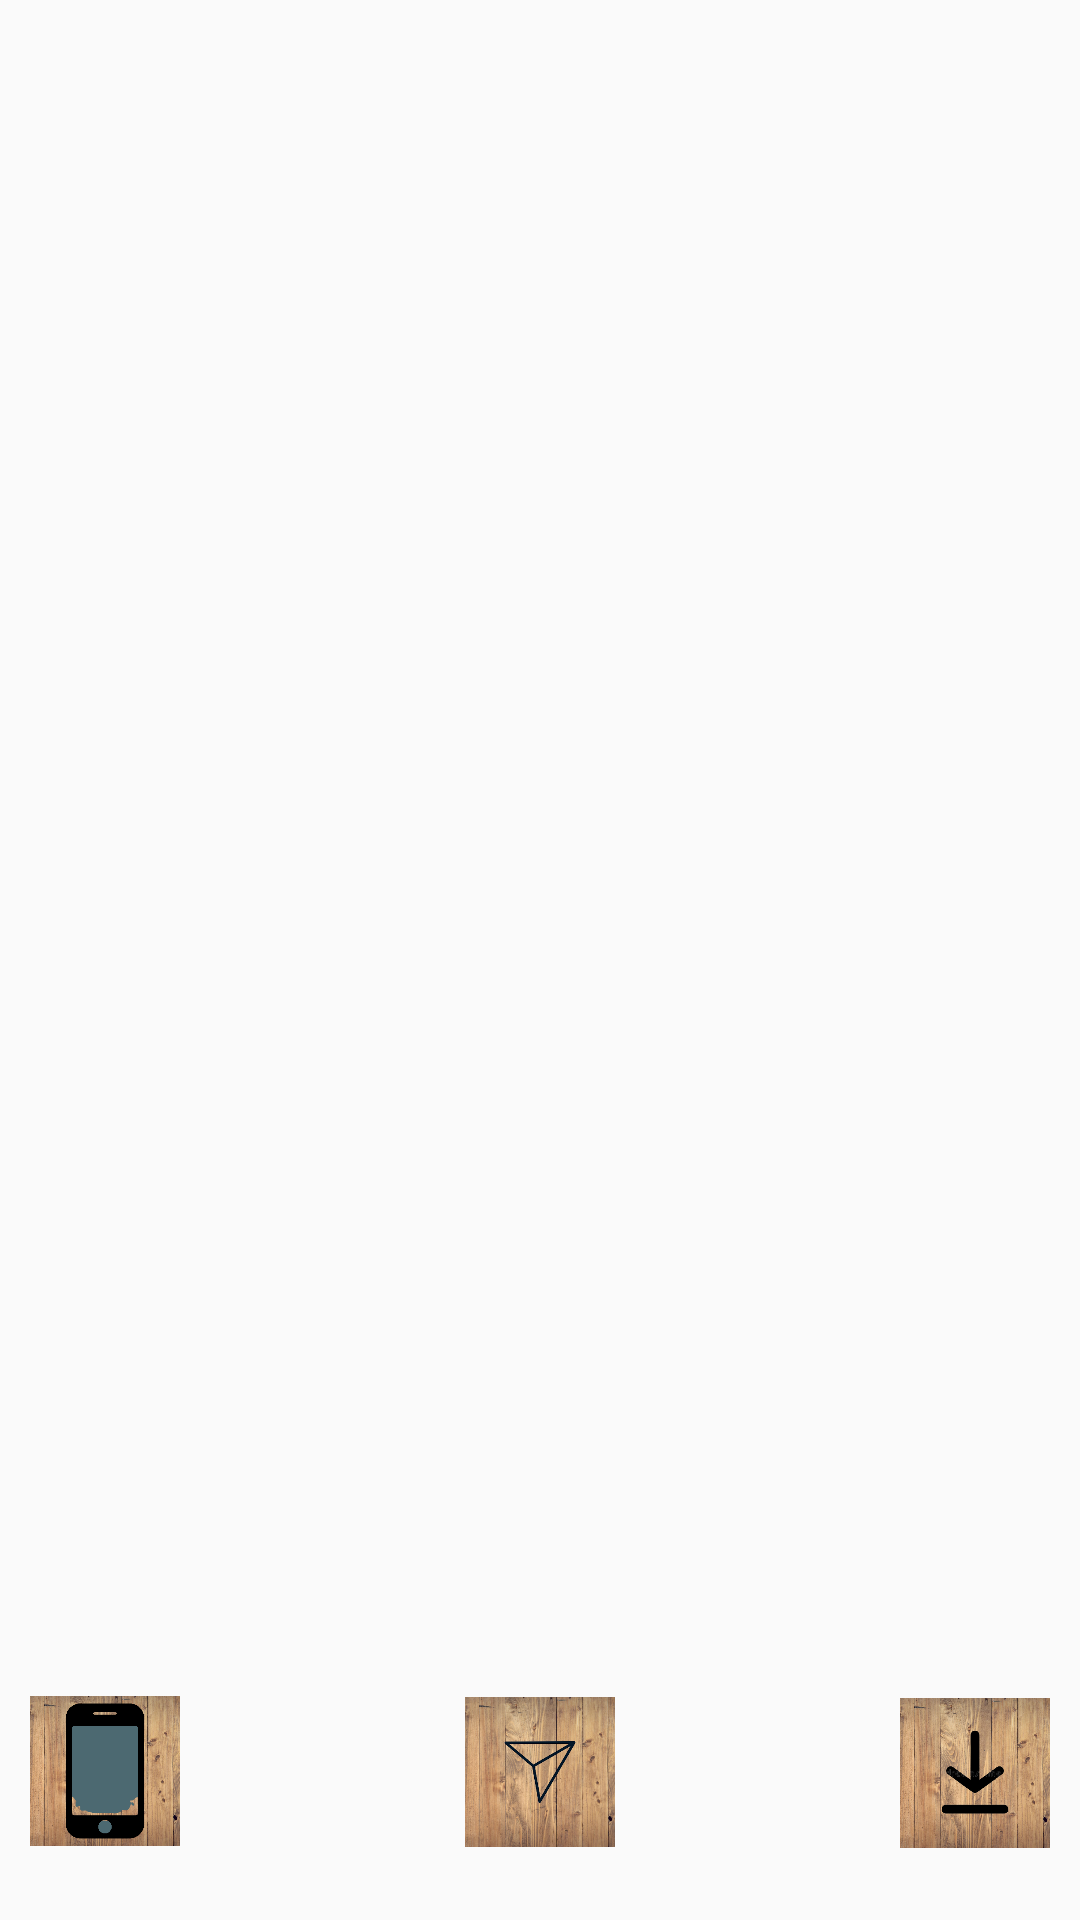

Named icons in this screenshot (1080 x 1920) and their bounding boxes, detection(x1, y1, x2, y2):
downloadpic: detection(900, 1698, 1050, 1848)
